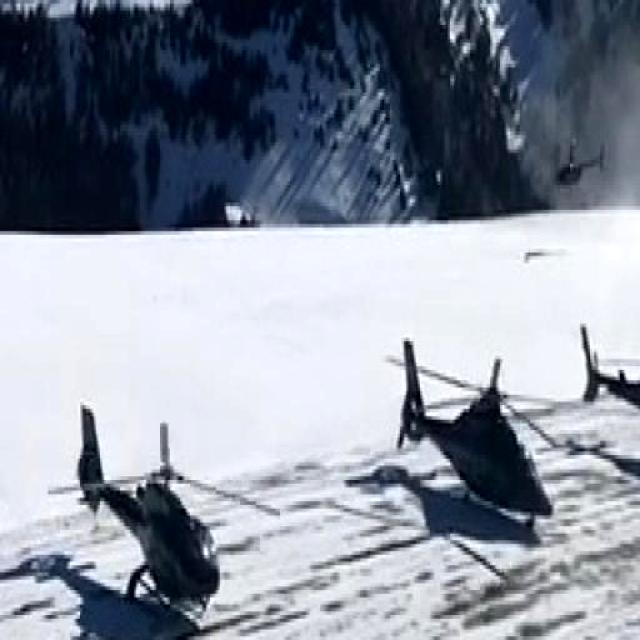drone: (38, 400, 256, 640), (372, 306, 558, 585), (578, 309, 640, 519)
